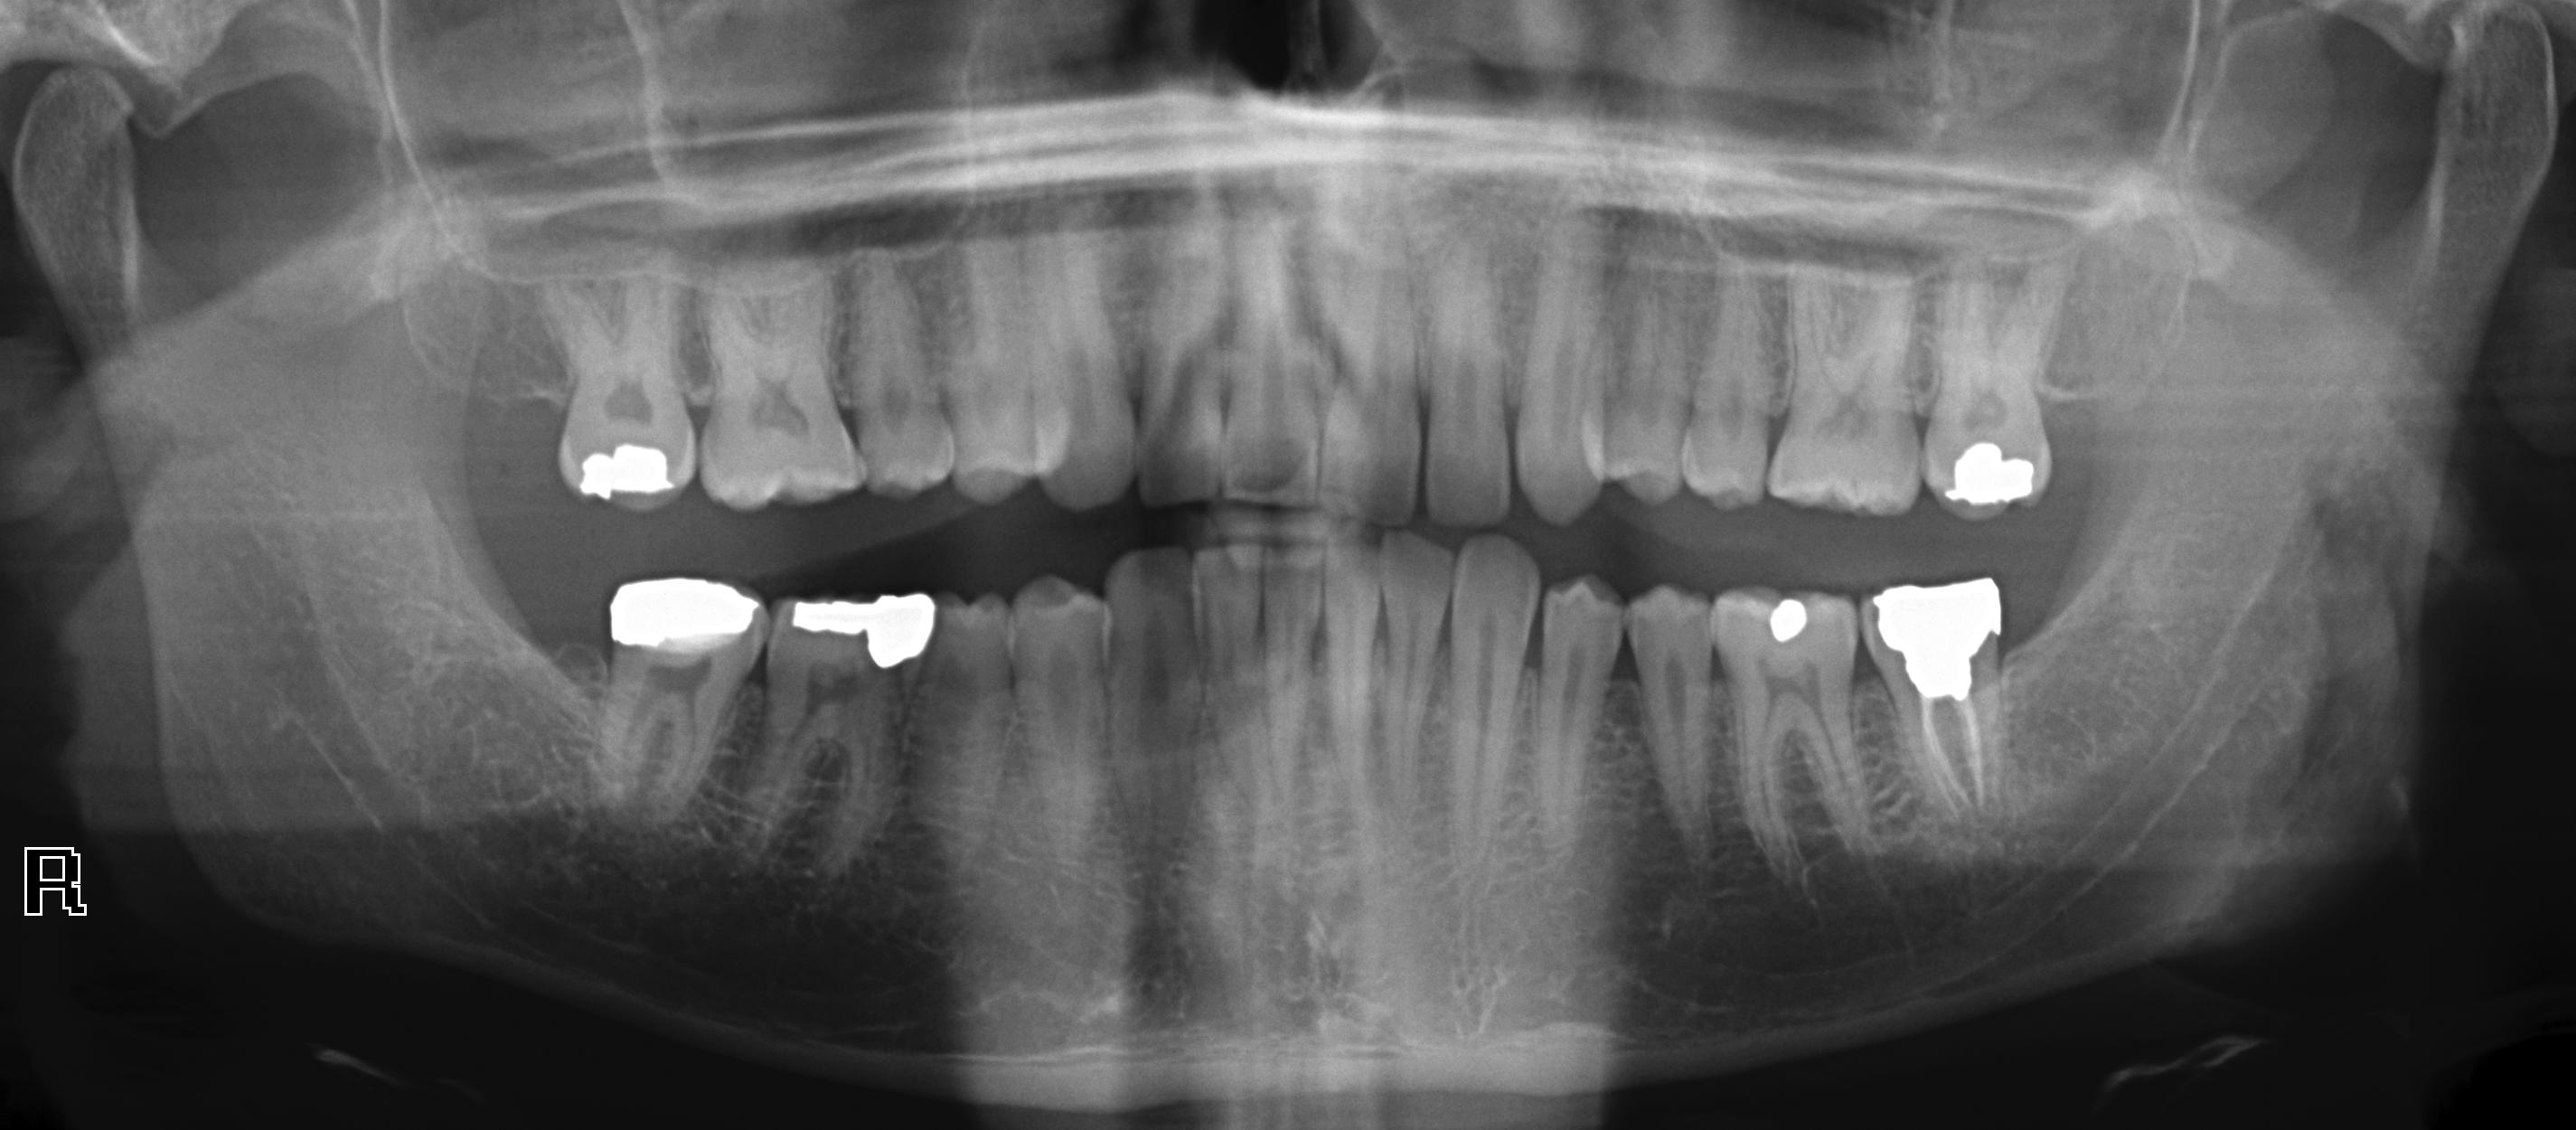Çürük: (1858, 575, 2008, 711), (785, 593, 948, 667), (601, 578, 754, 652), (572, 439, 678, 503), (1943, 439, 2039, 509), (1763, 595, 1817, 650)
Çürük Bölgesi: (774, 621, 871, 642), (1863, 596, 1889, 668)
